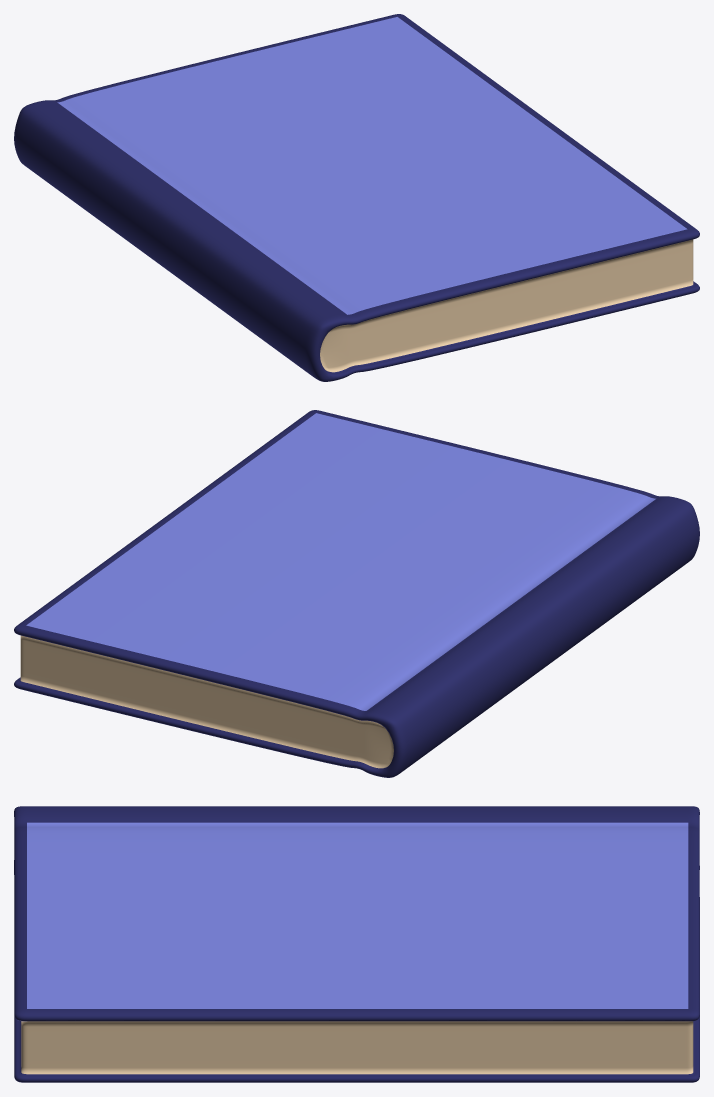
Rendered from Book_Blue.fbx.
The picture shows the model from 3 angles, top to bottom: view 1: azimuth 30°, elevation 25°; view 2: azimuth 150°, elevation 25°; view 3: azimuth 270°, elevation 25°; orthographic projection. The views are drawn at different scales.
Parts seen in each view (by area): view 1: Book blue.001; view 2: Book blue.001; view 3: Book blue.001.
Boxes of the visible parts, x1,y1,x2,y2 form: Book blue.001: [14, 14, 699, 381]; Book blue.001: [14, 410, 699, 777]; Book blue.001: [14, 806, 699, 1082].
Bounding box in the file's own units: 17.14 × 22.86 × 2.6.
